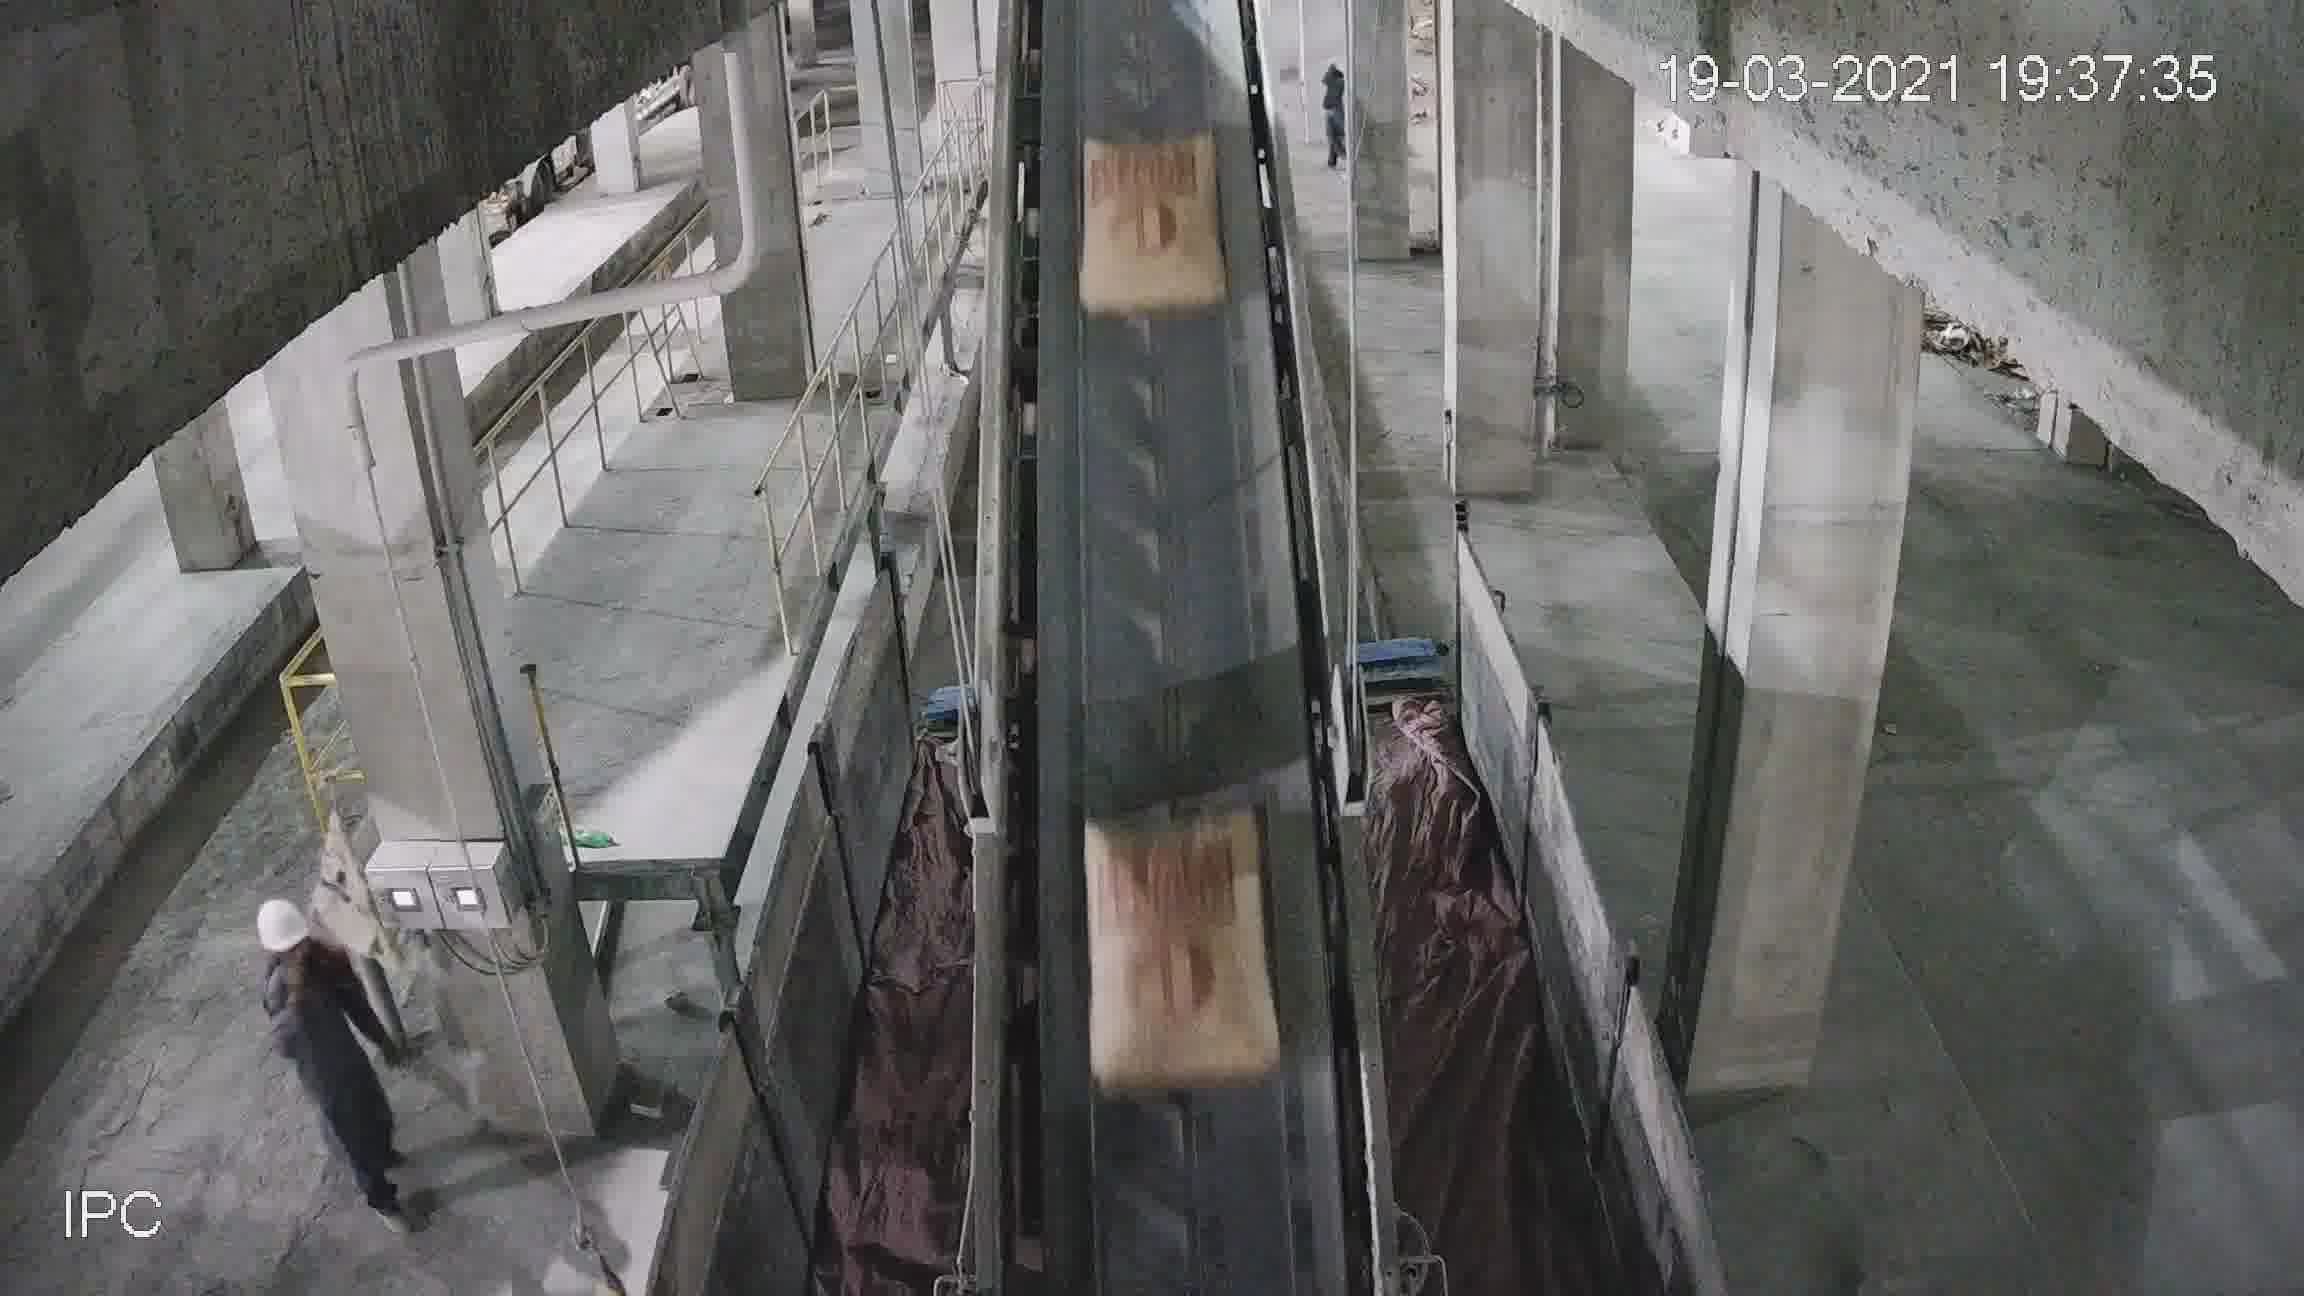bag: (1082, 818, 1271, 1095), (1078, 141, 1225, 309)
belt: (984, 38, 1358, 1119)
